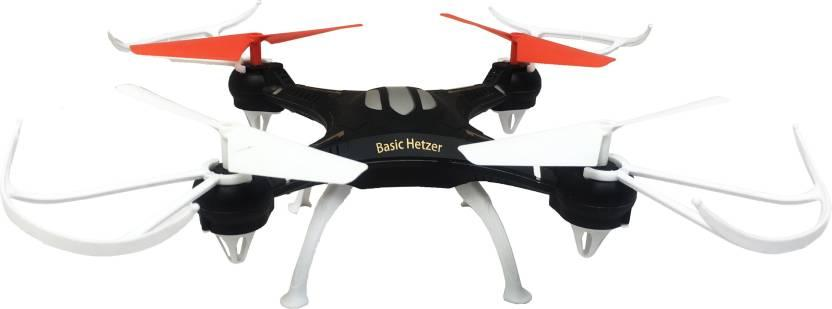drone: (19, 8, 832, 303)
